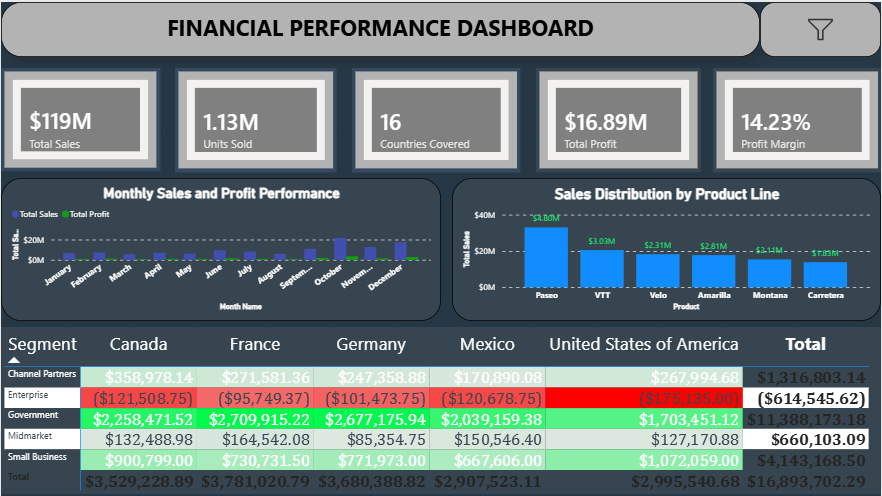

This screenshot's page, from the dashboard's own definition file:
{"tool":"powerbi","page":{"name":"Page 1","canvas":[1280,720],"ordinal":0},"visuals":[{"type":"textbox","box":[0,0,1104,80],"z":0},{"type":"lineClusteredColumnComboChart","title":" Monthly Sales and Profit Performance","fields":{"Y":["Financial_Sample.Total Sales","Financial_Sample.Total Profit"],"Category":["Financial_Sample. Month Name "]},"box":[0,256,640,208],"z":1000},{"type":"clusteredColumnChart","title":"Sales Distribution by Product Line ","fields":{"Y":["Financial_Sample.Total Sales"],"Category":["Financial_Sample. Product "]},"box":[656,256,624,208],"z":2000},{"type":"cardVisual","fields":{"Data":["Sum(Financial_Sample.Units Sold)"]},"box":[253.8,96,235,151.7],"z":3000},{"type":"cardVisual","fields":{"Data":["Financial_Sample.Total Profit"]},"box":[777.9,96,240,151.7],"z":4000},{"type":"cardVisual","fields":{"Data":["Financial_Sample.Gross Profit Margin"]},"box":[1035,96,245,151.7],"z":5000},{"type":"cardVisual","fields":{"Data":["Financial_Sample.Total Sales"]},"box":[0,96,231.7,150],"z":6000},{"type":"cardVisual","fields":{"Data":["Count(Financial_Sample.Date)"]},"box":[510.8,96,245,151.7],"z":7000},{"type":"slicer","fields":{"Values":["Financial_Sample.Date"]},"box":[1104,0,176,80],"z":8000},{"type":"pivotTable","fields":{"Rows":["Financial_Sample.Segment"],"Columns":["Financial_Sample.Country"],"Values":["Financial_Sample.Total Profit"]},"box":[0,472,1280,243],"z":9000}]}

Visuals, with their boxes in screenshot pixels (x1, y1, x2, y2), scaled from the page's 1280x720 canvas onto the 882x496 screenshot:
textbox: {"left": 0, "top": 0, "right": 761, "bottom": 55}
" Monthly Sales and Profit Performance" lineClusteredColumnComboChart: {"left": 0, "top": 176, "right": 441, "bottom": 320}
"Sales Distribution by Product Line " clusteredColumnChart: {"left": 452, "top": 176, "right": 881, "bottom": 320}
cardVisual - Sum(Financial_Sample.Units Sold): {"left": 175, "top": 66, "right": 337, "bottom": 171}
cardVisual - Financial_Sample.Total Profit: {"left": 536, "top": 66, "right": 701, "bottom": 171}
cardVisual - Financial_Sample.Gross Profit Margin: {"left": 713, "top": 66, "right": 881, "bottom": 171}
cardVisual - Financial_Sample.Total Sales: {"left": 0, "top": 66, "right": 160, "bottom": 169}
cardVisual - Count(Financial_Sample.Date): {"left": 352, "top": 66, "right": 521, "bottom": 171}
slicer - Financial_Sample.Date: {"left": 761, "top": 0, "right": 881, "bottom": 55}
pivotTable - Financial_Sample.Segment x Financial_Sample.Country: {"left": 0, "top": 325, "right": 881, "bottom": 493}
